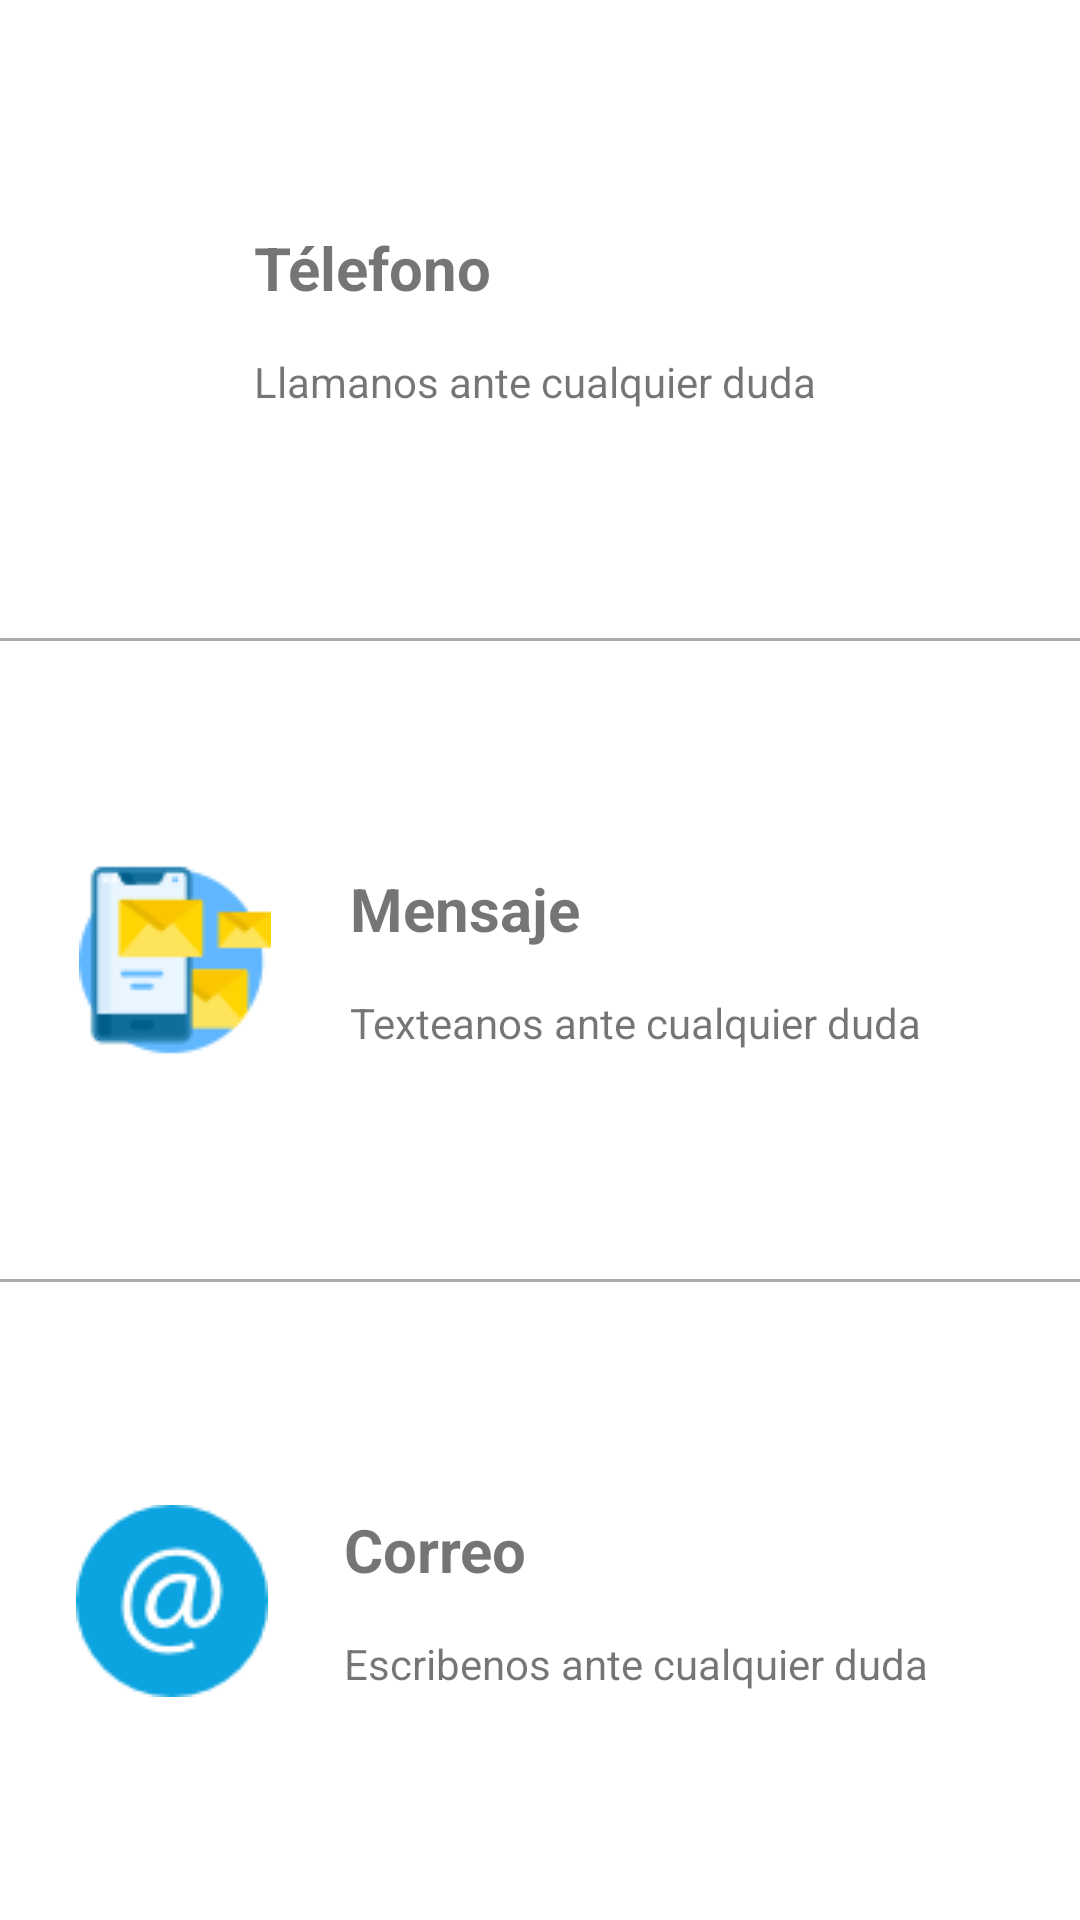

Icon bounding boxes for this 1080*1920 phone screenshot, format box(x1, y1, x2, y2):
arroba: box(76, 1505, 268, 1697)
